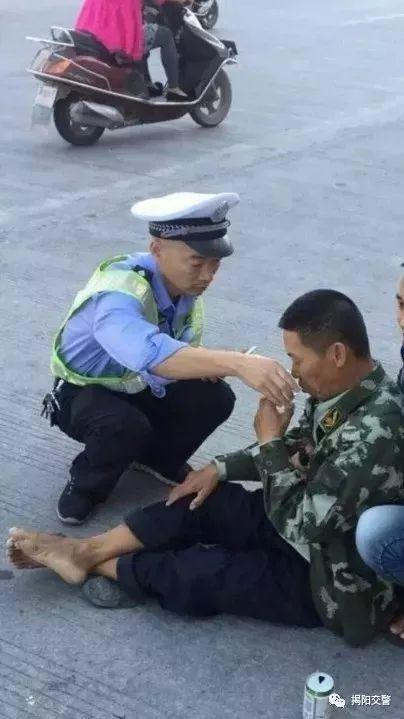bending: (5, 282, 397, 637), (46, 182, 249, 521)
